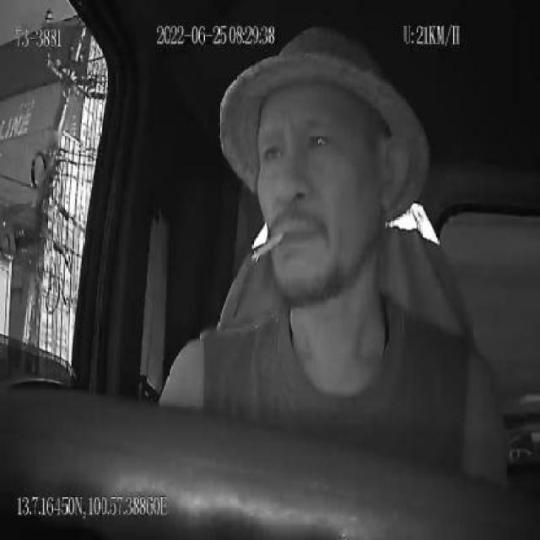smoking: (251, 230, 285, 264)
